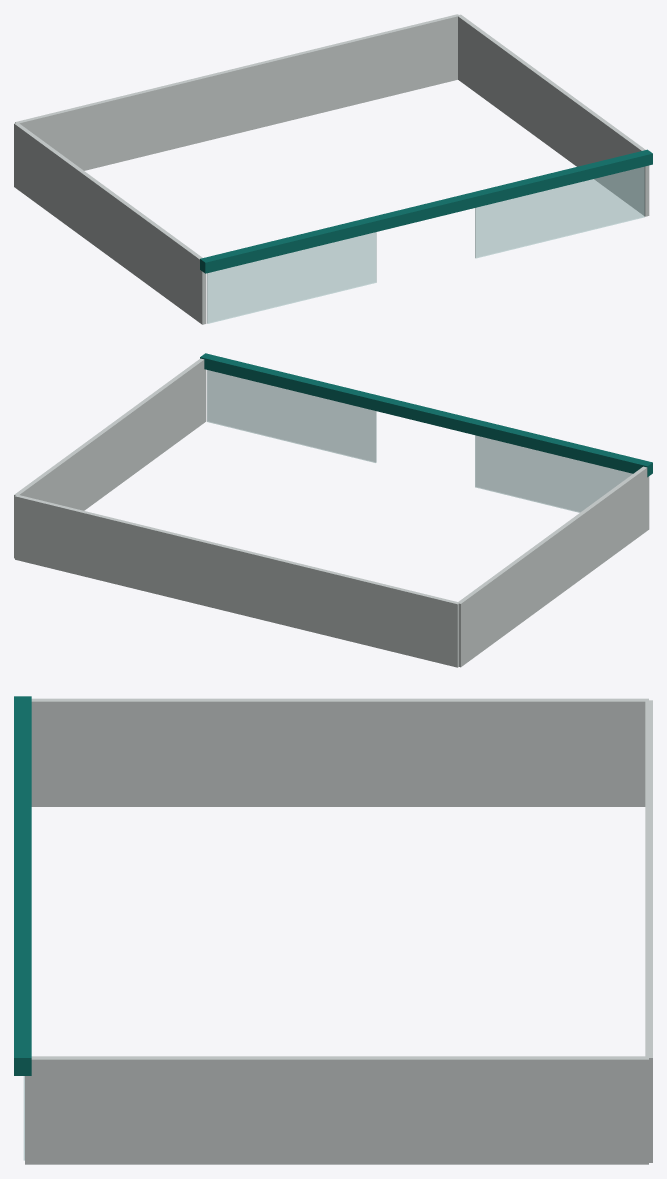
Rendered from building.glb.
3 views of the same model, one above another, from view 1: azimuth 30°, elevation 25°; view 2: azimuth 150°, elevation 25°; view 3: azimuth 270°, elevation 25° (orthographic). The views are drawn at different scales.
Parts seen in each view (by area): view 1: North_Wall, West_Wall, East_Wall, Glass_Facade_Right, Glass_Facade_Left, Entrance_Header; view 2: North_Wall, West_Wall, East_Wall, Glass_Facade_Right, Entrance_Header, Glass_Facade_Left; view 3: East_Wall, West_Wall, Entrance_Header, North_Wall.
Boxes of the visible parts, <box> form: North_Wall: <box>15,14,459,170</box>; West_Wall: <box>14,122,206,324</box>; East_Wall: <box>457,14,649,216</box>; Glass_Facade_Right: <box>475,166,644,258</box>; Glass_Facade_Left: <box>207,232,376,323</box>; Entrance_Header: <box>200,149,652,273</box>; North_Wall: <box>15,495,459,667</box>; West_Wall: <box>458,466,649,667</box>; East_Wall: <box>14,358,206,558</box>; Glass_Facade_Right: <box>207,370,376,462</box>; Entrance_Header: <box>200,353,652,477</box>; Glass_Facade_Left: <box>475,435,632,512</box>; East_Wall: <box>25,1056,648,1164</box>; West_Wall: <box>31,698,648,806</box>; Entrance_Header: <box>14,696,31,1075</box>; North_Wall: <box>645,700,652,1162</box>.
Size of the model in its own units: 38.4 by 5.3 by 28.68.
